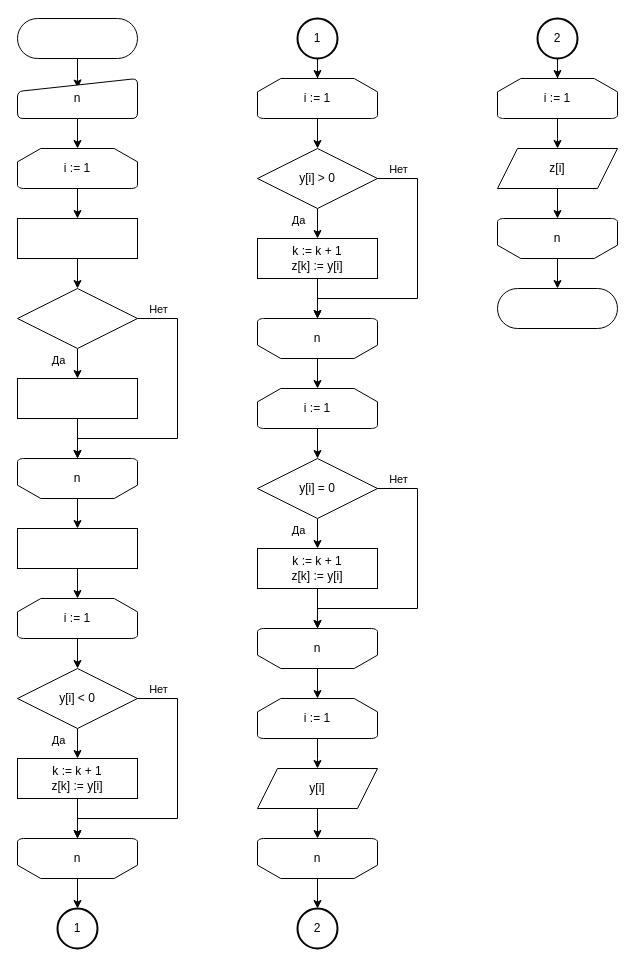
Some shapes in this 635 by 966 pixel diagram are drawn without their labels. Each missing label, with the centre of its shape:
a[i] mod 5 = 0: the point at 77,318
k := 0: the point at 77,548
y[i] := 0: the point at 77,398
y[i] := random: the point at 77,238
Конец: the point at 557,308
Начало: the point at 77,38
